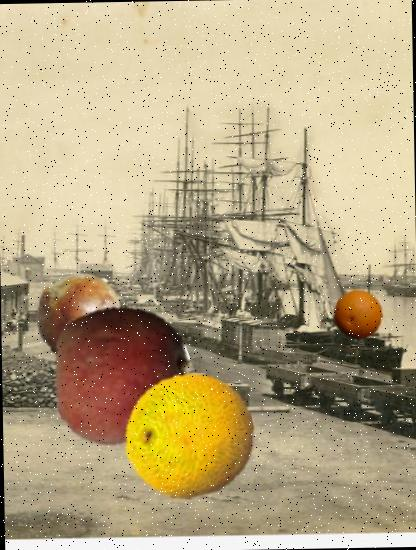Cantaloupe: (123, 370, 256, 502)
Cherry: (138, 394, 224, 480)
Onion: (31, 268, 122, 359)
Orange: (331, 288, 383, 340)
Peach: (47, 301, 192, 446)
